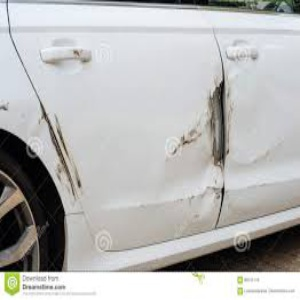door: (184, 76, 246, 170)
